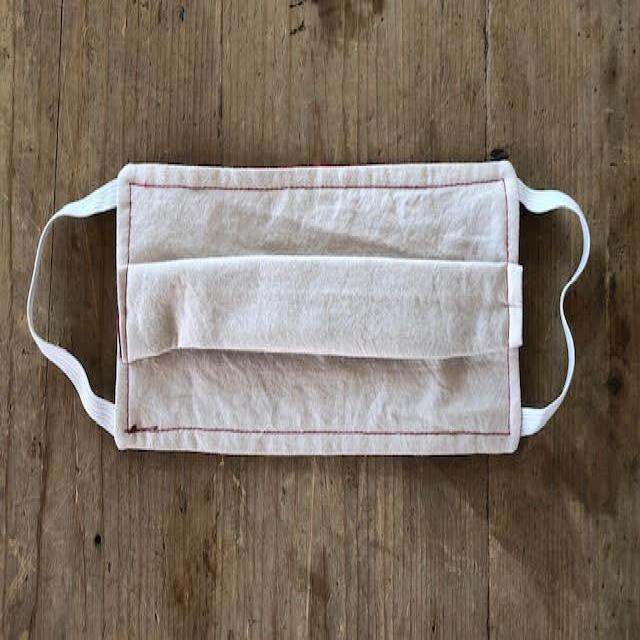non-organic waste: (27, 157, 586, 452)
